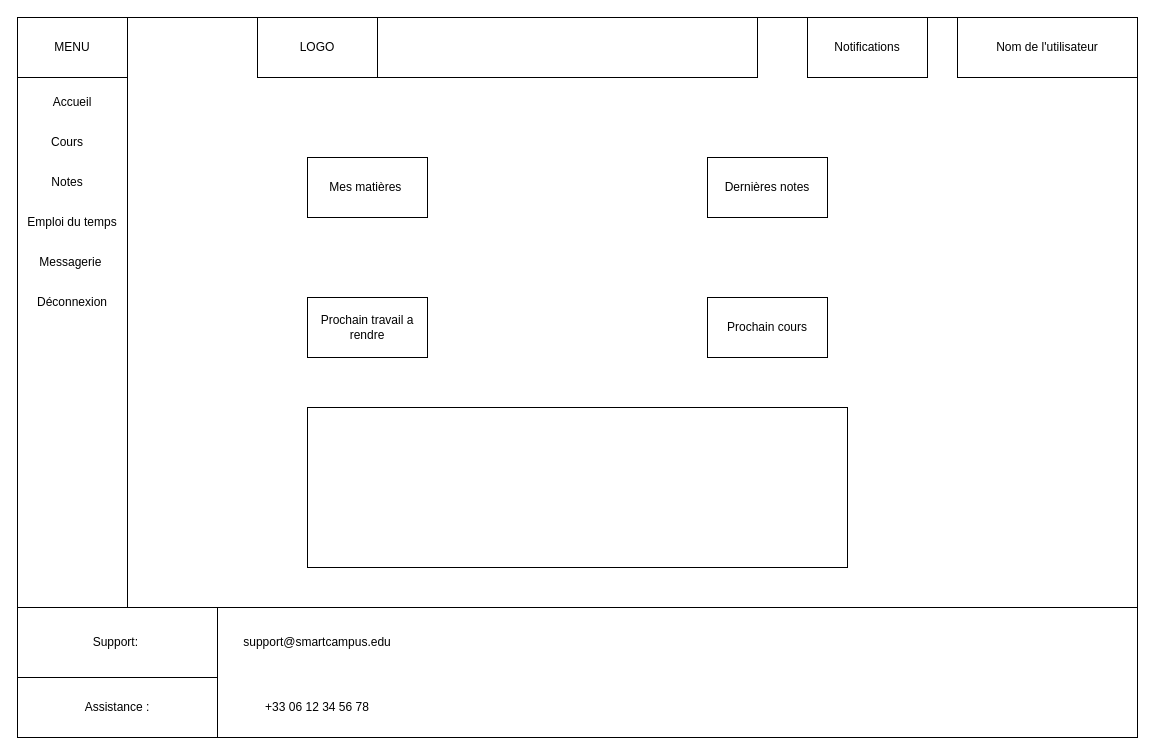
The diagram is 1155 pixels wide and 755 high, and some of its shapes have lost their labels. The shapes that lost their labels are listed below. From the top down, each one's centre as x and y in pixels, then its label:
At (567,47): "Nom du site".
At (577,487): "Derniers messages".
